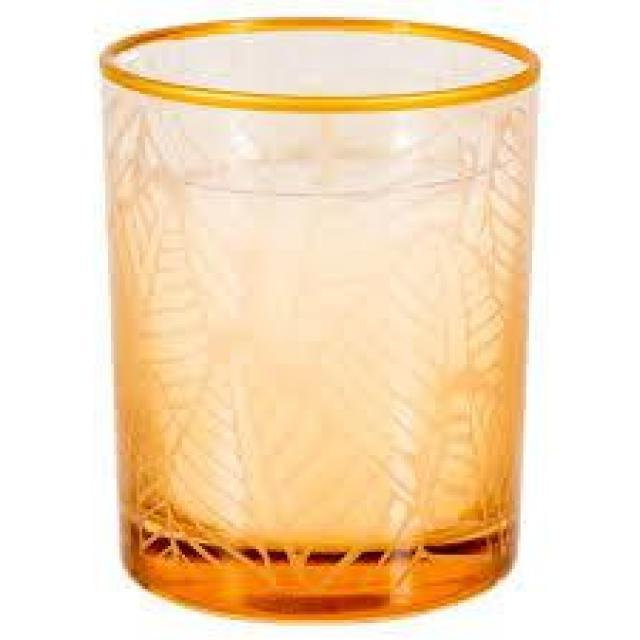glass: (95, 14, 548, 629)
